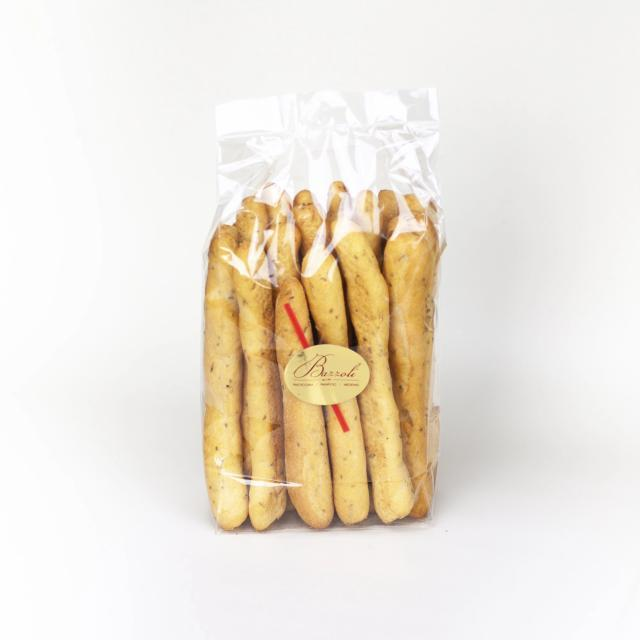Grissini: (211, 196, 431, 518)
